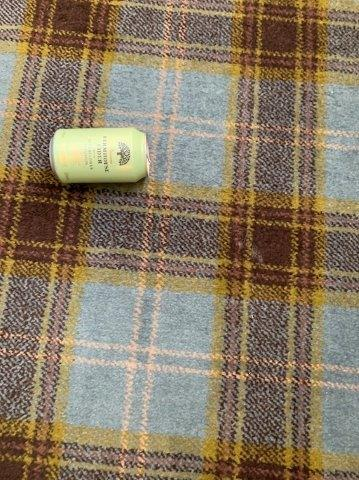kaleng: (48, 128, 151, 184)
